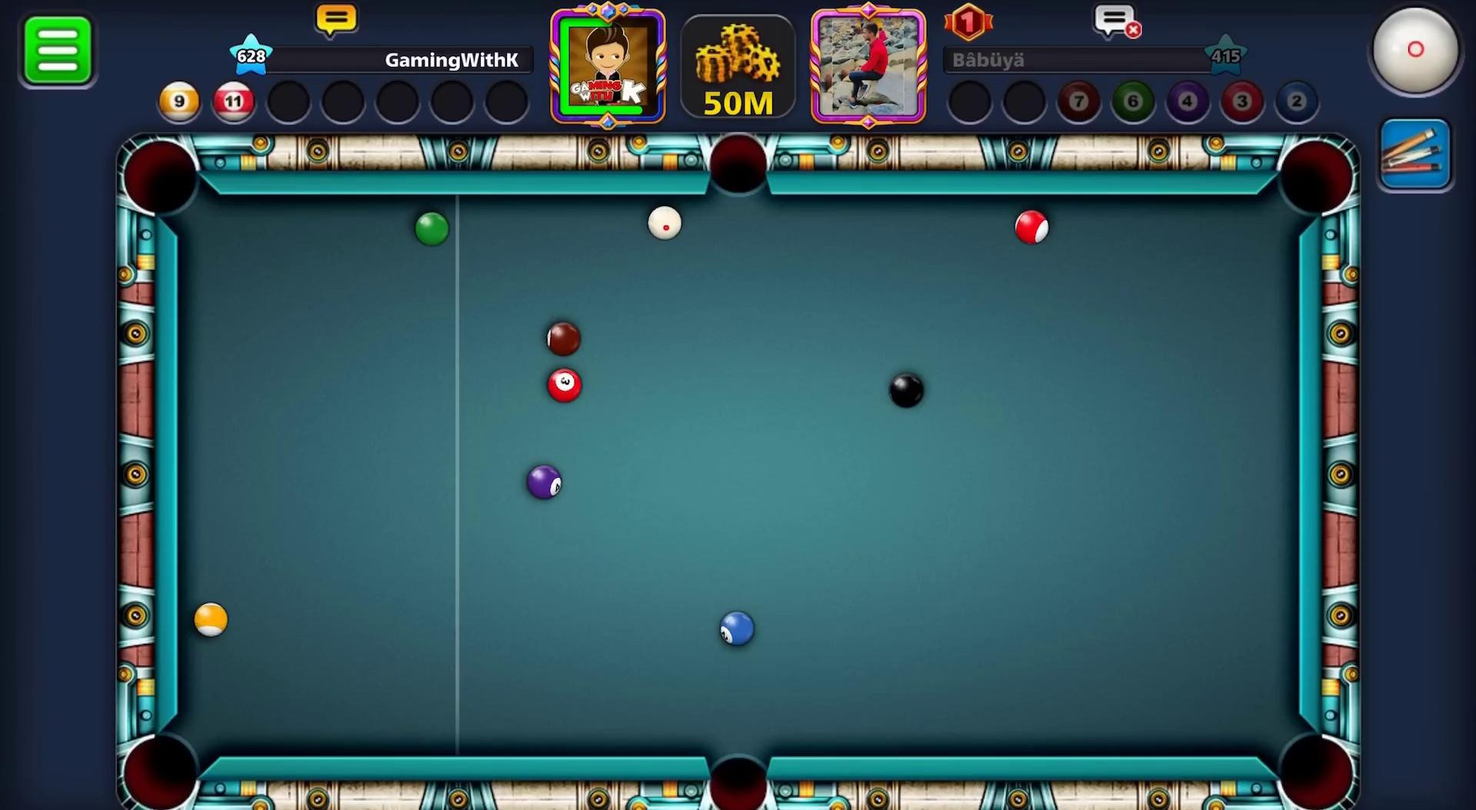Ball: (513, 453, 573, 505), (534, 315, 585, 363), (883, 369, 930, 413), (1008, 205, 1055, 249), (715, 603, 756, 653), (188, 601, 233, 646), (408, 210, 449, 249)
Hole: (100, 709, 223, 809), (1254, 705, 1371, 809), (105, 124, 209, 228), (1264, 128, 1364, 230), (701, 118, 792, 218), (685, 711, 776, 809)
Play_Area: (178, 195, 1298, 758)
Spin: (1361, 0, 1475, 111)
White: (641, 201, 685, 242)
